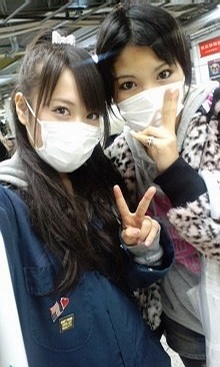face_mask: (38, 62, 103, 174), (115, 44, 181, 134)
